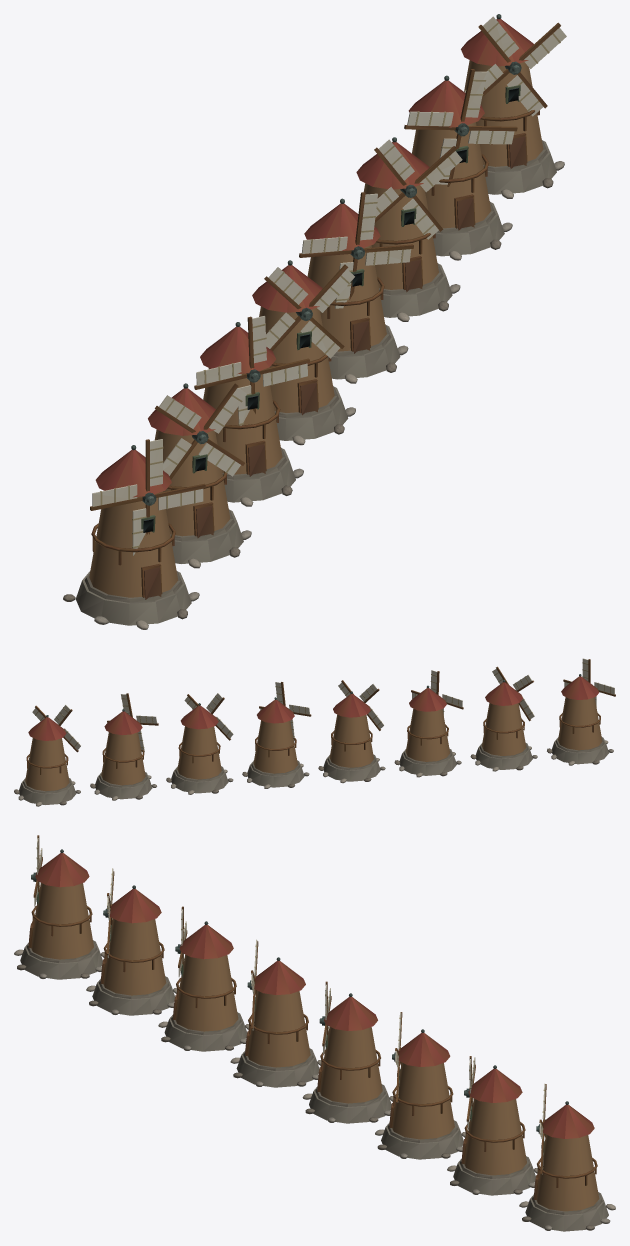
The model's file is audit-hf-windmill-blades-spin-tq.glb.
3 renders of one model, top to bottom at view 1: azimuth 30°, elevation 25°; view 2: azimuth 150°, elevation 25°; view 3: azimuth 270°, elevation 25°, orthographic. The views are drawn at different scales.
Visible parts, largest first — view 1: windmillHardware (×8), windmillTower (×8), windmillBlades (×8); view 2: windmillTower (×8), windmillHardware (×8), windmillBlades (×8); view 3: windmillTower (×8), windmillHardware (×8).
Part boxes in pixels (x1=…): windmillHardware (×8): x1=63, y1=14, x2=564, y2=629; windmillTower (×8): x1=89, y1=60, x2=543, y2=597; windmillBlades (×8): x1=90, y1=16, x2=566, y2=555; windmillTower (×8): x1=25, y1=697, x2=602, y2=791; windmillHardware (×8): x1=14, y1=674, x2=613, y2=806; windmillBlades (×8): x1=32, y1=658, x2=615, y2=752; windmillTower (×8): x1=31, y1=883, x2=599, y2=1211; windmillHardware (×8): x1=14, y1=849, x2=615, y2=1231.
Bounding box in the file's own units: 24.85 × 5.02 × 21.77.
